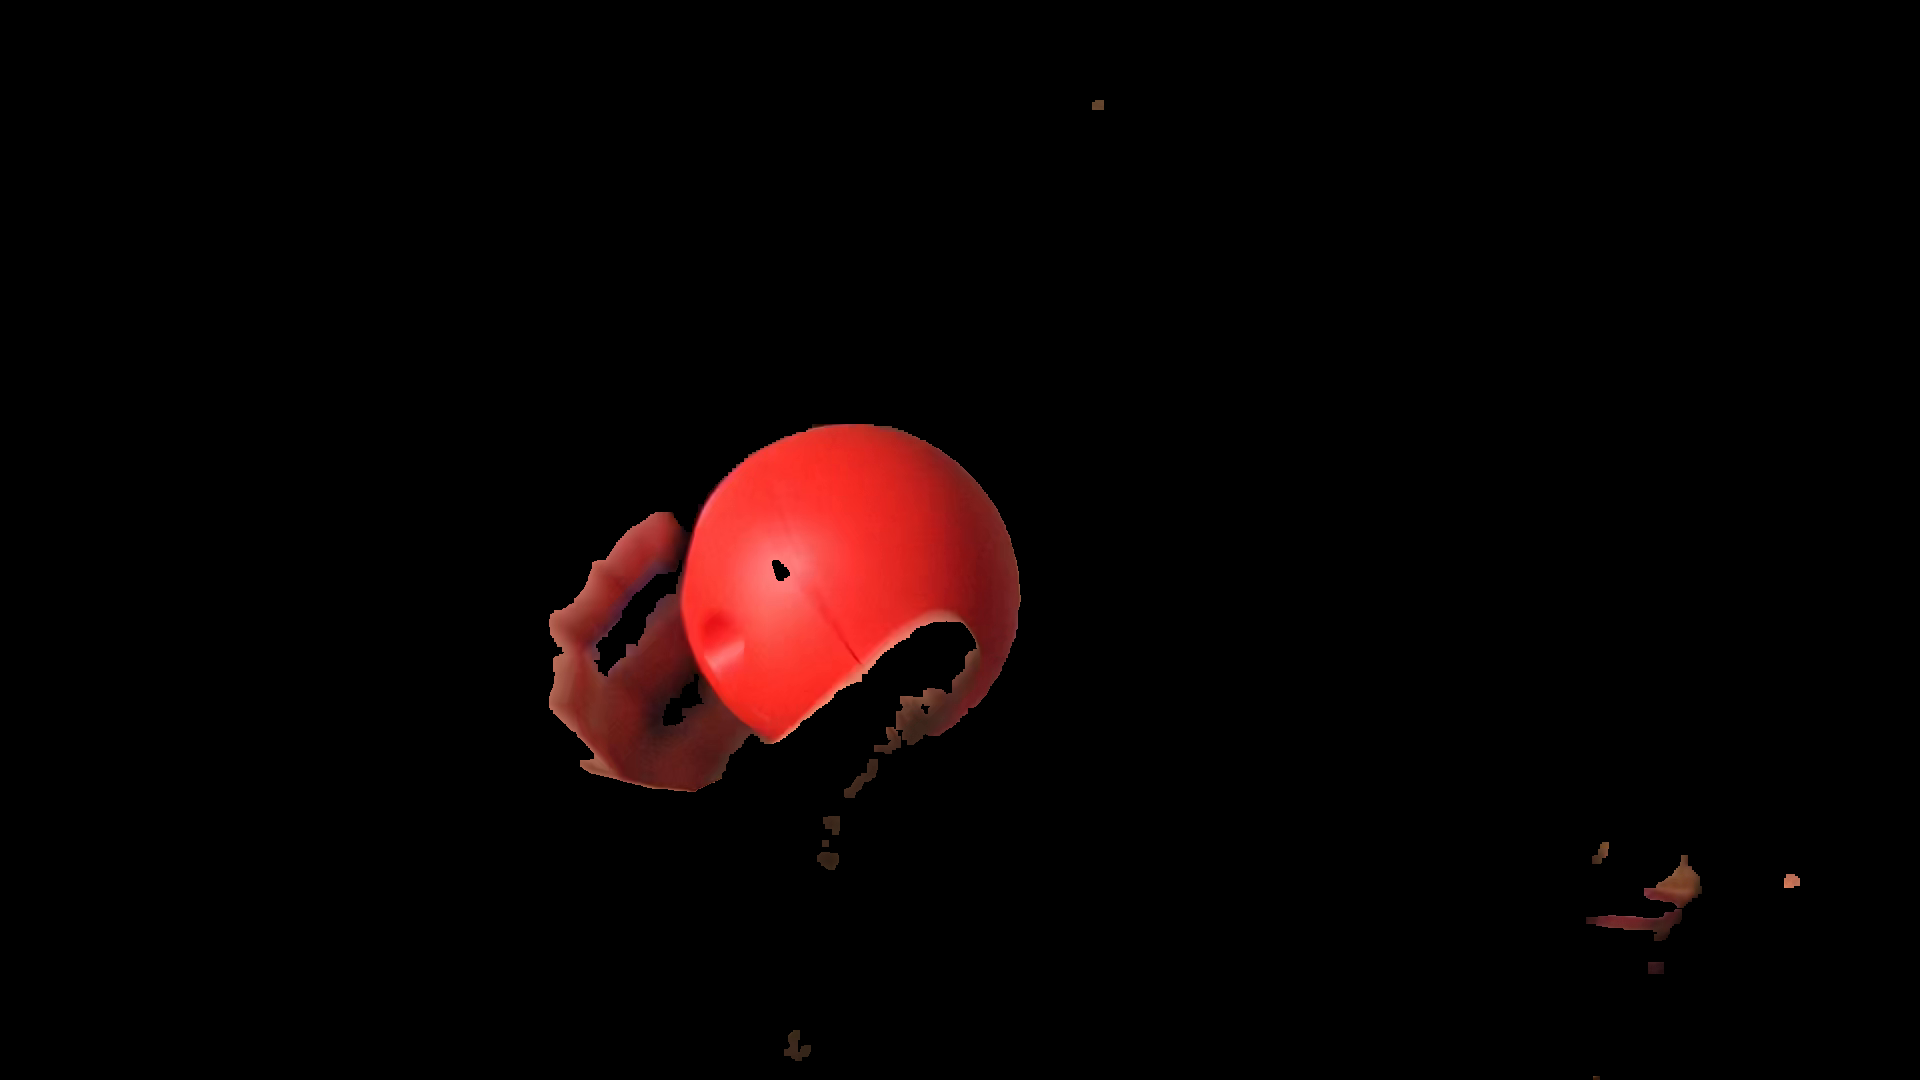Ball: (680, 422, 1018, 748)
